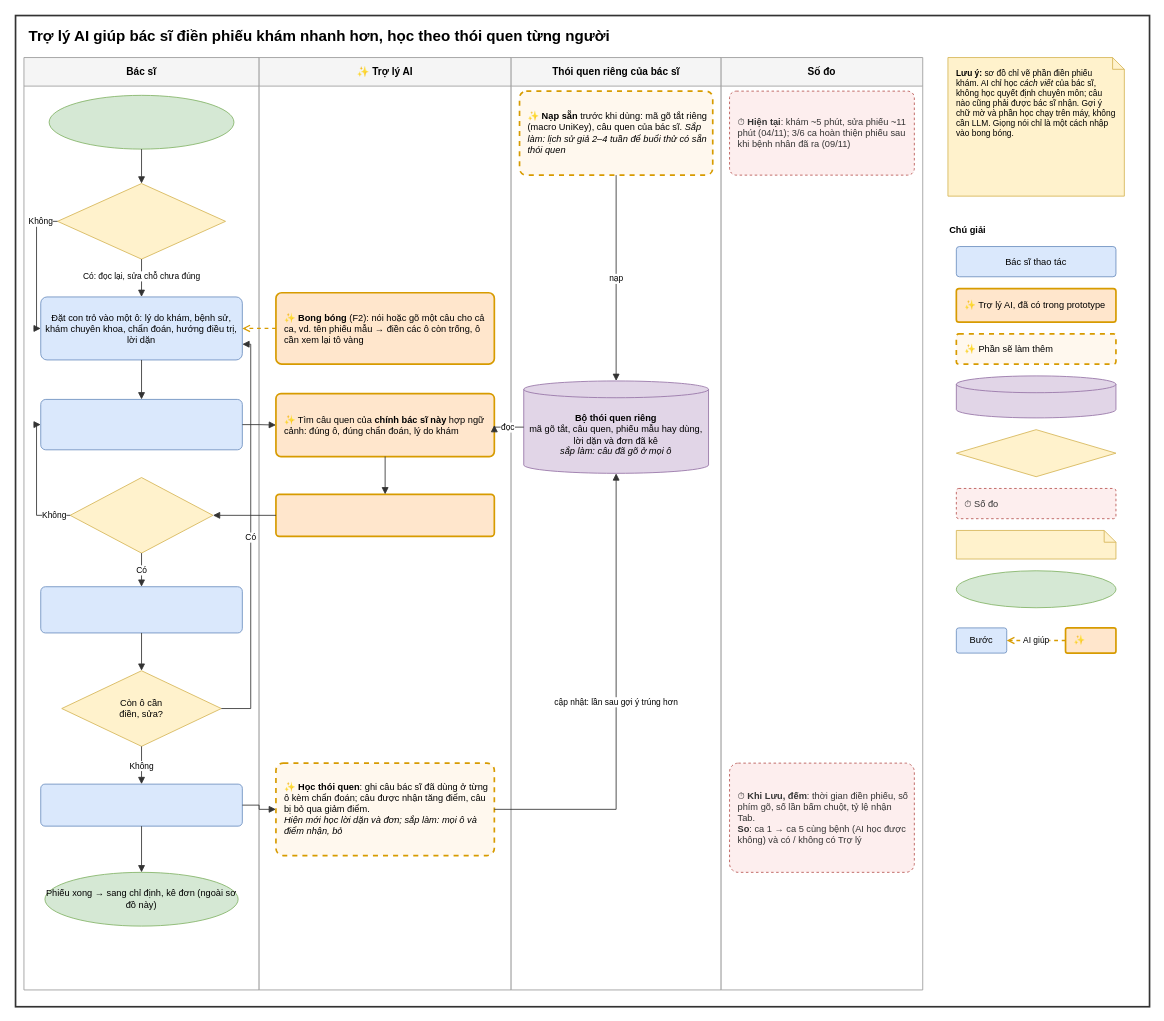
The diagram is 1164 pixels wide and 1021 high, and some of its shapes have lost their labels. The centre of each missing label's shape, as x and y in pixels:
"Bấm Lưu" goes at pixel 141 804.
"Bấm Tab : nhận cả câu bằng một phím" goes at pixel 141 609.
"Bắt đầu Mở phiếu khám ngoại trú của bệnh nhân" goes at pixel 141 121.
"Bắt đầu, kết thúc" goes at pixel 1036 589.
"Chú thích" goes at pixel 1036 544.
"Dữ liệu thói quen, theo từng bác sĩ" goes at pixel 1036 396.
"Gõ vài chữ hoặc mã gõ tắt (gõ tiếp thì chữ mờ tự biến mất)" goes at pixel 141 424.
"Điều dưỡng đã điền sẵn?" goes at pixel 141 221.
"Điều kiện rẽ nhánh" goes at pixel 1036 453.
"Đúng ý?" goes at pixel 141 515.
"✨ Hiện chữ mờ sau con trỏ" goes at pixel 385 515.
